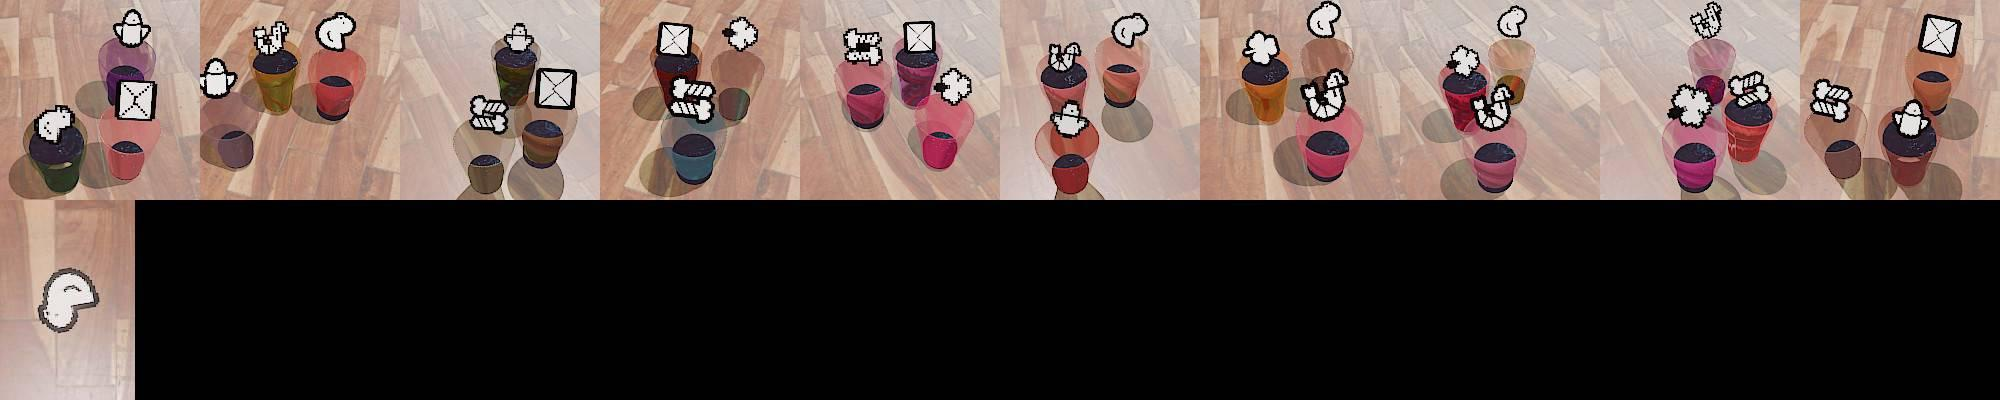icon: (37, 268, 101, 335), (1300, 66, 1349, 121), (1469, 79, 1515, 130), (667, 75, 717, 121), (1667, 82, 1716, 127), (1918, 14, 1962, 59), (1810, 78, 1853, 122), (536, 66, 577, 110), (116, 78, 156, 121), (1050, 97, 1091, 138), (34, 104, 75, 145), (468, 94, 510, 134), (199, 56, 239, 98), (934, 65, 973, 106), (316, 11, 355, 54), (843, 27, 884, 65), (1727, 70, 1769, 107), (1892, 97, 1930, 136), (1242, 29, 1282, 66), (114, 8, 151, 46), (1111, 11, 1148, 48), (657, 22, 694, 59), (1306, 1, 1342, 39), (253, 20, 290, 56), (723, 17, 759, 52), (1690, 1, 1722, 41), (902, 20, 936, 56), (1046, 41, 1083, 74), (1446, 45, 1483, 78), (1496, 5, 1528, 39), (504, 22, 534, 54)
